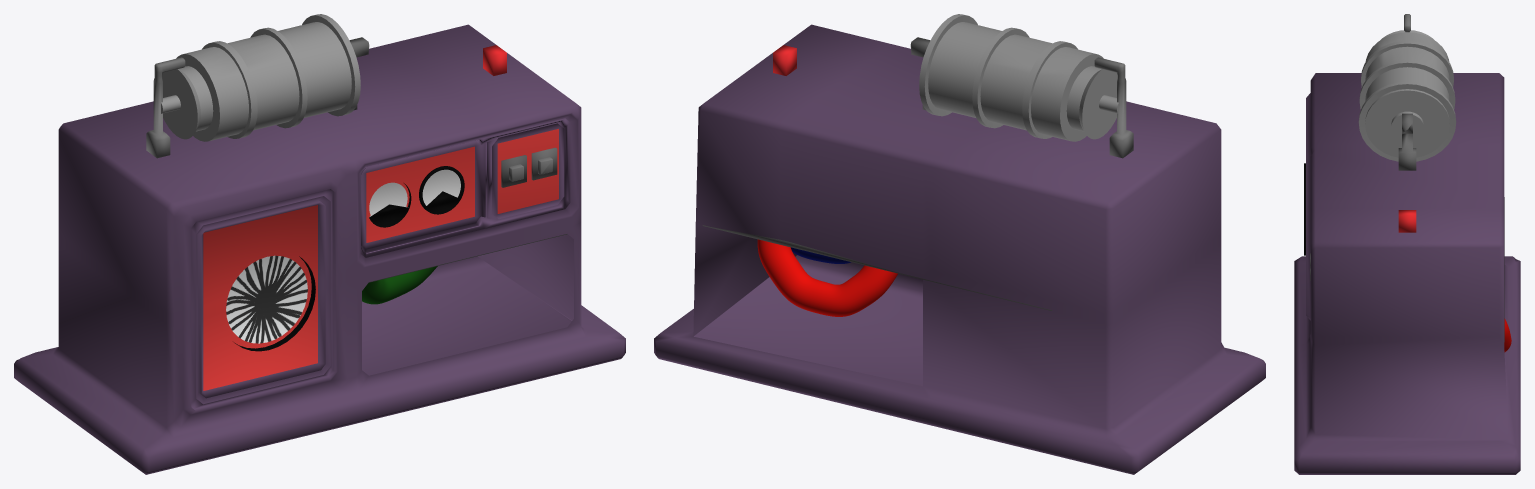
Rendered from generator-with-wire.glb.
The picture shows the model from 3 angles, left to right: view 1: azimuth 30°, elevation 25°; view 2: azimuth 150°, elevation 25°; view 3: azimuth 270°, elevation 25°; orthographic projection. The views are drawn at different scales.
Visible parts, largest first — view 1: Cube, Cylinder, Circle, Circle.002, Cube.006, Circle.001, Plane.002, Cube.007; view 2: Cube, Cylinder, Plane.001, Cube.006, Plane, Cube.007; view 3: Cube, Cylinder, Cube.005, Cube.007.
Part boxes in pixels (x1,y1,x2,y2): Cube: (14, 24, 625, 474); Cylinder: (161, 14, 360, 141); Circle: (226, 255, 315, 351); Circle.002: (419, 166, 464, 214); Cube.006: (146, 57, 185, 158); Circle.001: (369, 182, 411, 227); Plane.002: (362, 266, 437, 304); Cube.007: (483, 45, 506, 75); Cube: (654, 24, 1265, 474); Cylinder: (919, 14, 1118, 141); Plane.001: (757, 239, 897, 316); Cube.006: (1094, 57, 1133, 158); Plane: (702, 225, 1052, 310); Cube.007: (773, 45, 796, 75); Cube: (1294, 73, 1520, 474); Cylinder: (1358, 30, 1456, 161); Cube.005: (1398, 113, 1416, 170); Cube.007: (1398, 210, 1416, 232).
Size of the model in its own units: 2.78 by 1.91 by 1.32.
20 materials, 1 textured.
